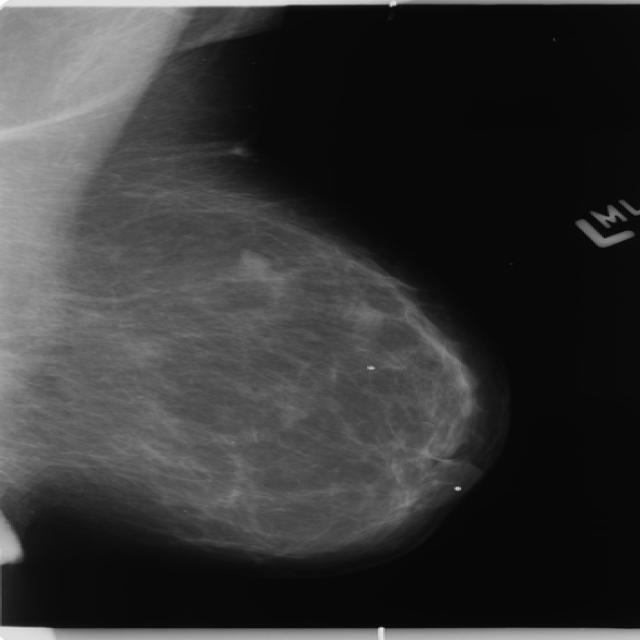tumour: (235, 247, 271, 270)
